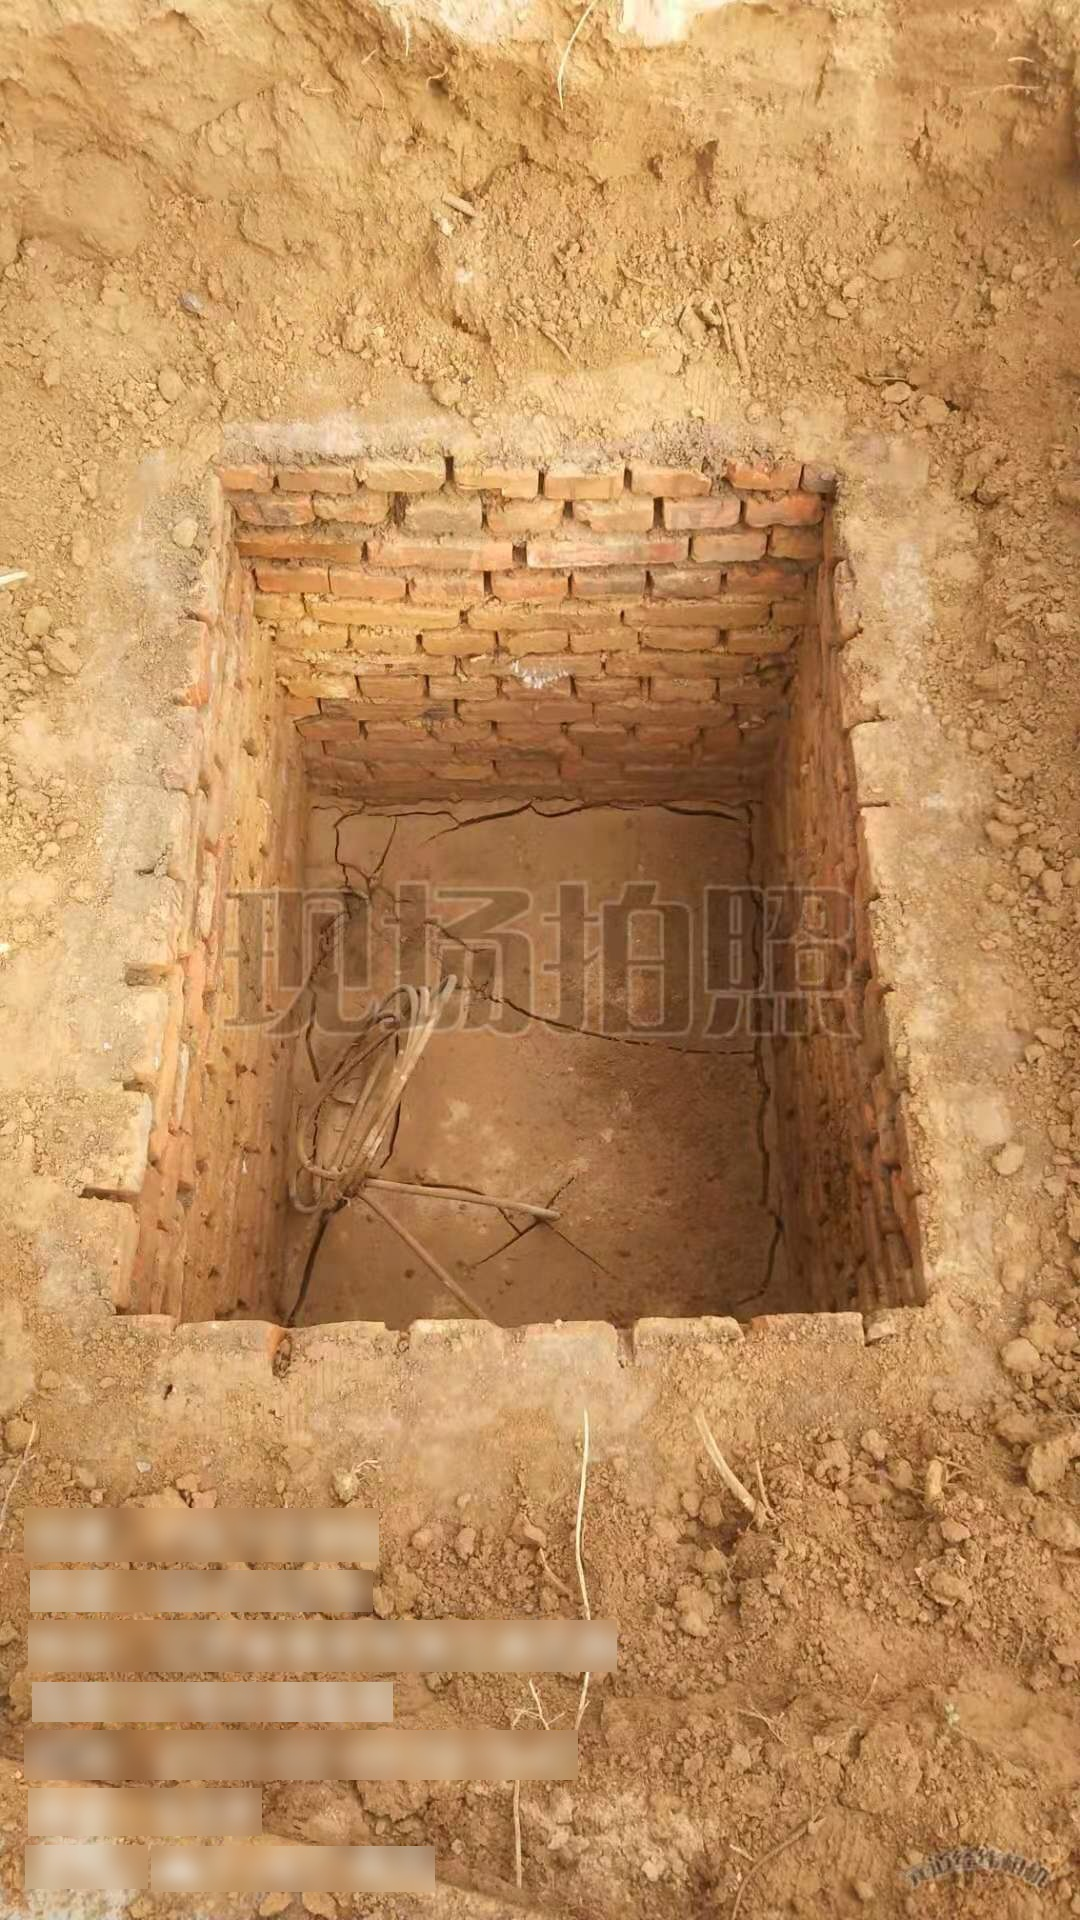well: (103, 438, 968, 1340)
